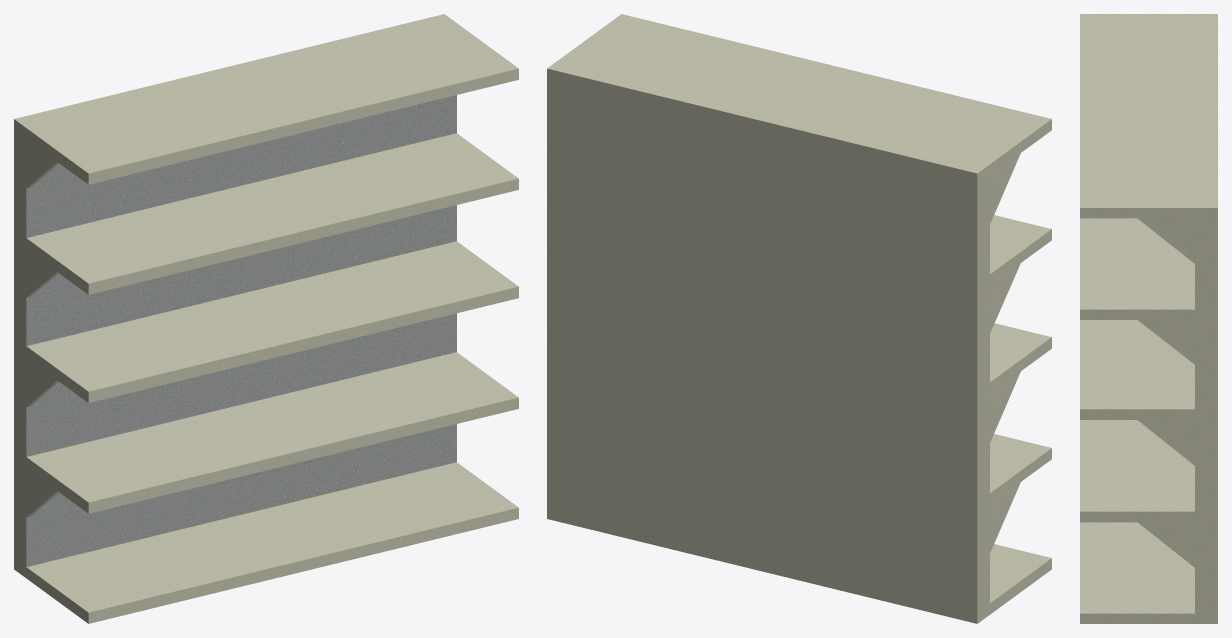
The model's file is ShelfSegment.fbx.
3 views of the same model, side by side, from view 1: azimuth 30°, elevation 25°; view 2: azimuth 150°, elevation 25°; view 3: azimuth 270°, elevation 25° (orthographic). The views are drawn at different scales.
Visible parts, largest first — view 1: ShelfSegment; view 2: ShelfSegment; view 3: ShelfSegment.
Part boxes in pixels (x1,y1,x2,y2): ShelfSegment: (14,14,518,623); ShelfSegment: (547,14,1051,623); ShelfSegment: (1080,14,1217,623).
Bounding box in the file's own units: 200 × 200 × 60.
